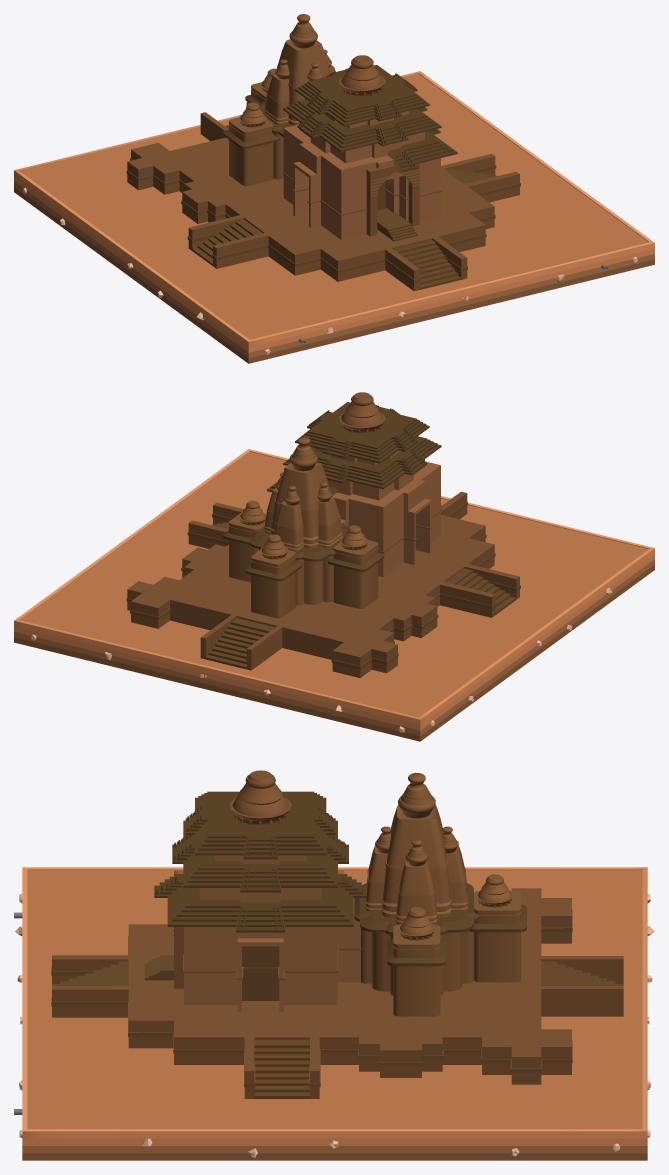
Rendered from Konark_Temple.fbx.
The picture shows the model from 3 angles, top to bottom: view 1: azimuth 30°, elevation 25°; view 2: azimuth 150°, elevation 25°; view 3: azimuth 270°, elevation 25°; orthographic projection. The views are drawn at different scales.
Parts seen in each view (by area): view 1: Konark_Temple, Ground.003; view 2: Konark_Temple, Ground.003; view 3: Konark_Temple, Ground.003.
Part boxes in pixels (x1,y1,x2,y2): Konark_Temple: (126,14,520,291); Ground.003: (14,71,654,363); Konark_Temple: (126,392,520,677); Ground.003: (14,449,654,741); Konark_Temple: (51,770,623,1098); Ground.003: (14,867,654,1160).
Bounding box in the file's own units: 804 × 351 × 805.
